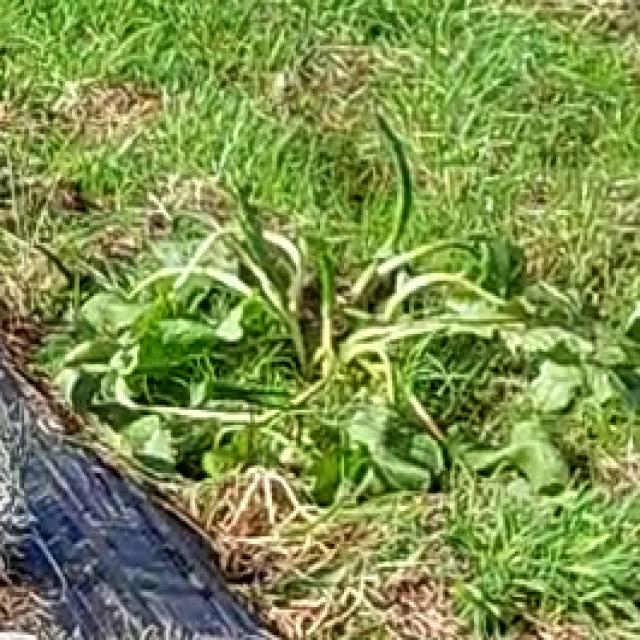organic waste: (74, 132, 626, 514)
